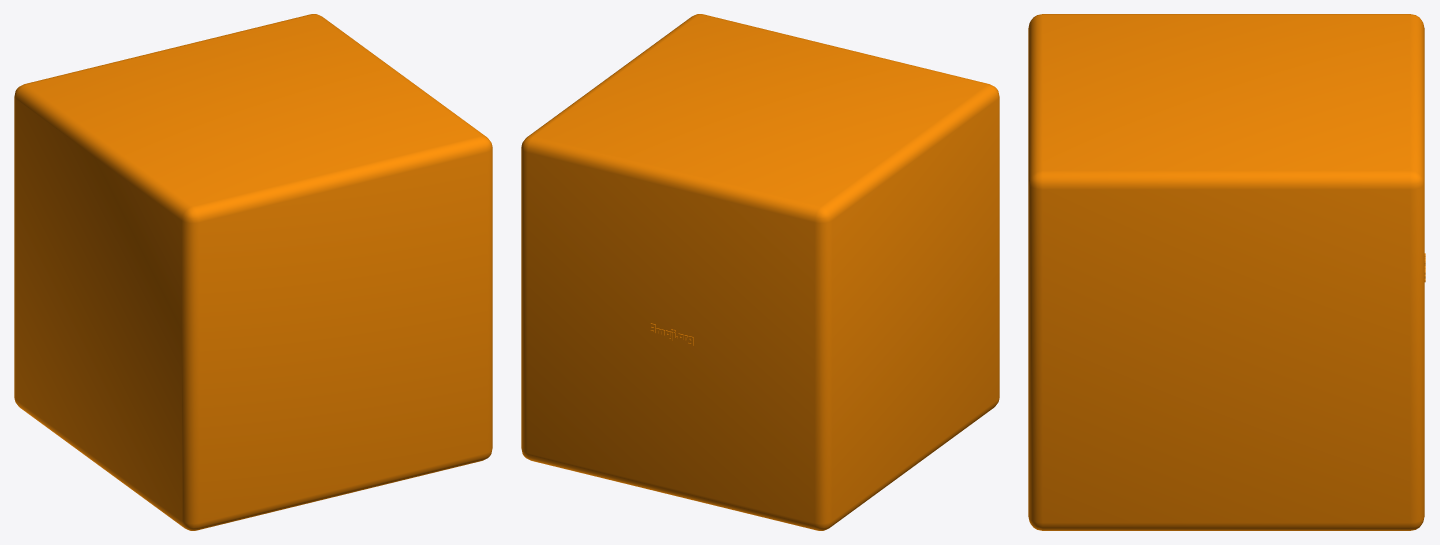
The model's file is orange_square.fbx.
3 views of the same model, side by side, from view 1: azimuth 30°, elevation 25°; view 2: azimuth 150°, elevation 25°; view 3: azimuth 270°, elevation 25° (orthographic). The views are drawn at different scales.
Parts seen in each view (by area): view 1: red_square.001; view 2: red_square.001; view 3: red_square.001.
Part boxes in pixels (<box>): red_square.001: <box>14,14,492,530</box>; red_square.001: <box>521,14,999,530</box>; red_square.001: <box>1028,14,1425,530</box>.
Size of the model in its own units: 192 by 192 by 192.
Materials: 1 (1 with a texture image).
